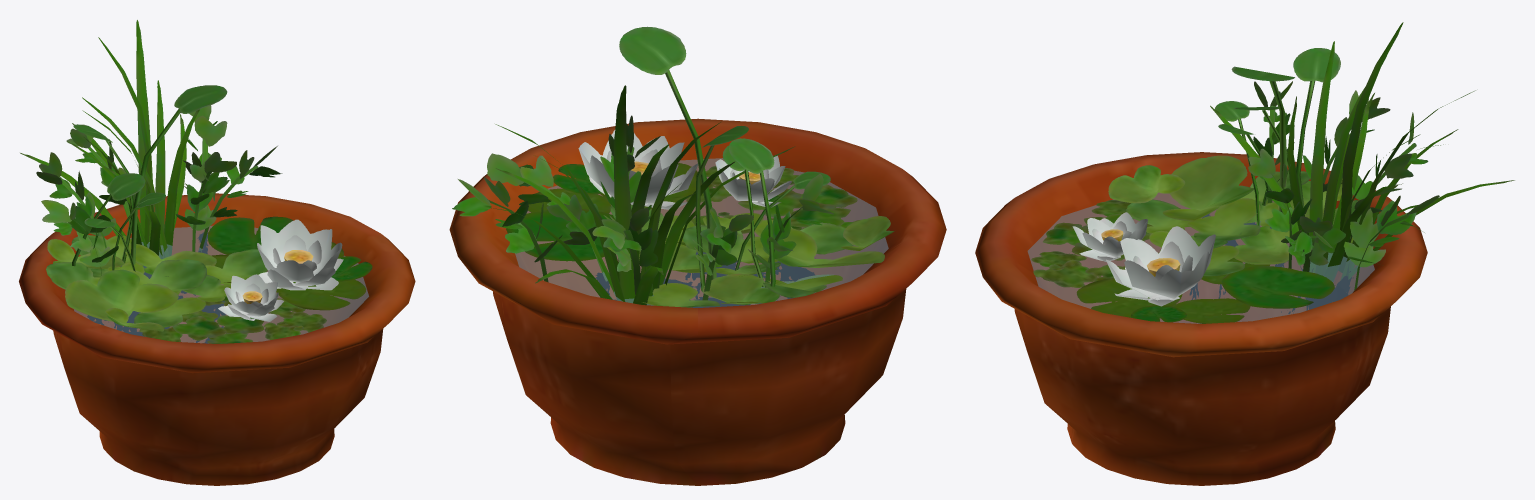
3 views of the same model, side by side, from view 1: azimuth 30°, elevation 25°; view 2: azimuth 150°, elevation 25°; view 3: azimuth 270°, elevation 25° (orthographic). The views are drawn at different scales.
Size of the model in its own units: 8.42 by 8.12 by 10.15.
2 materials, 1 textured.
